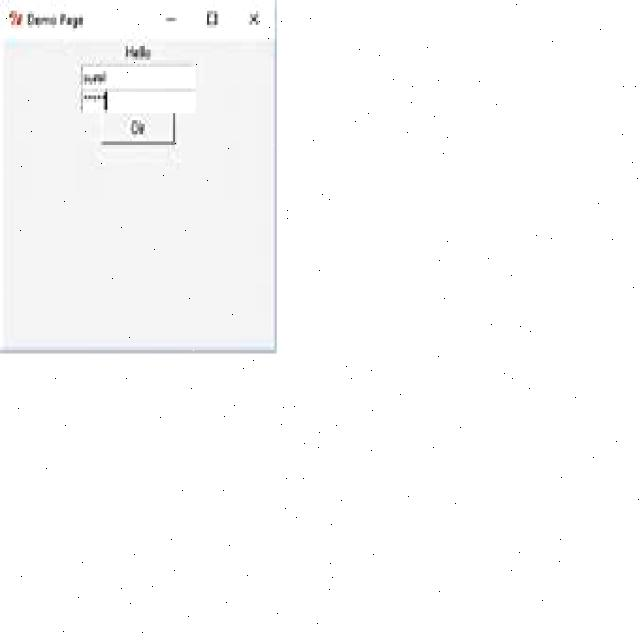button: (99, 113, 176, 146), (204, 5, 220, 33), (247, 1, 261, 33), (163, 10, 180, 31)
icon: (6, 2, 24, 30)
input: (80, 62, 197, 91), (80, 91, 196, 114)
label: (26, 3, 86, 31), (123, 37, 153, 59)
